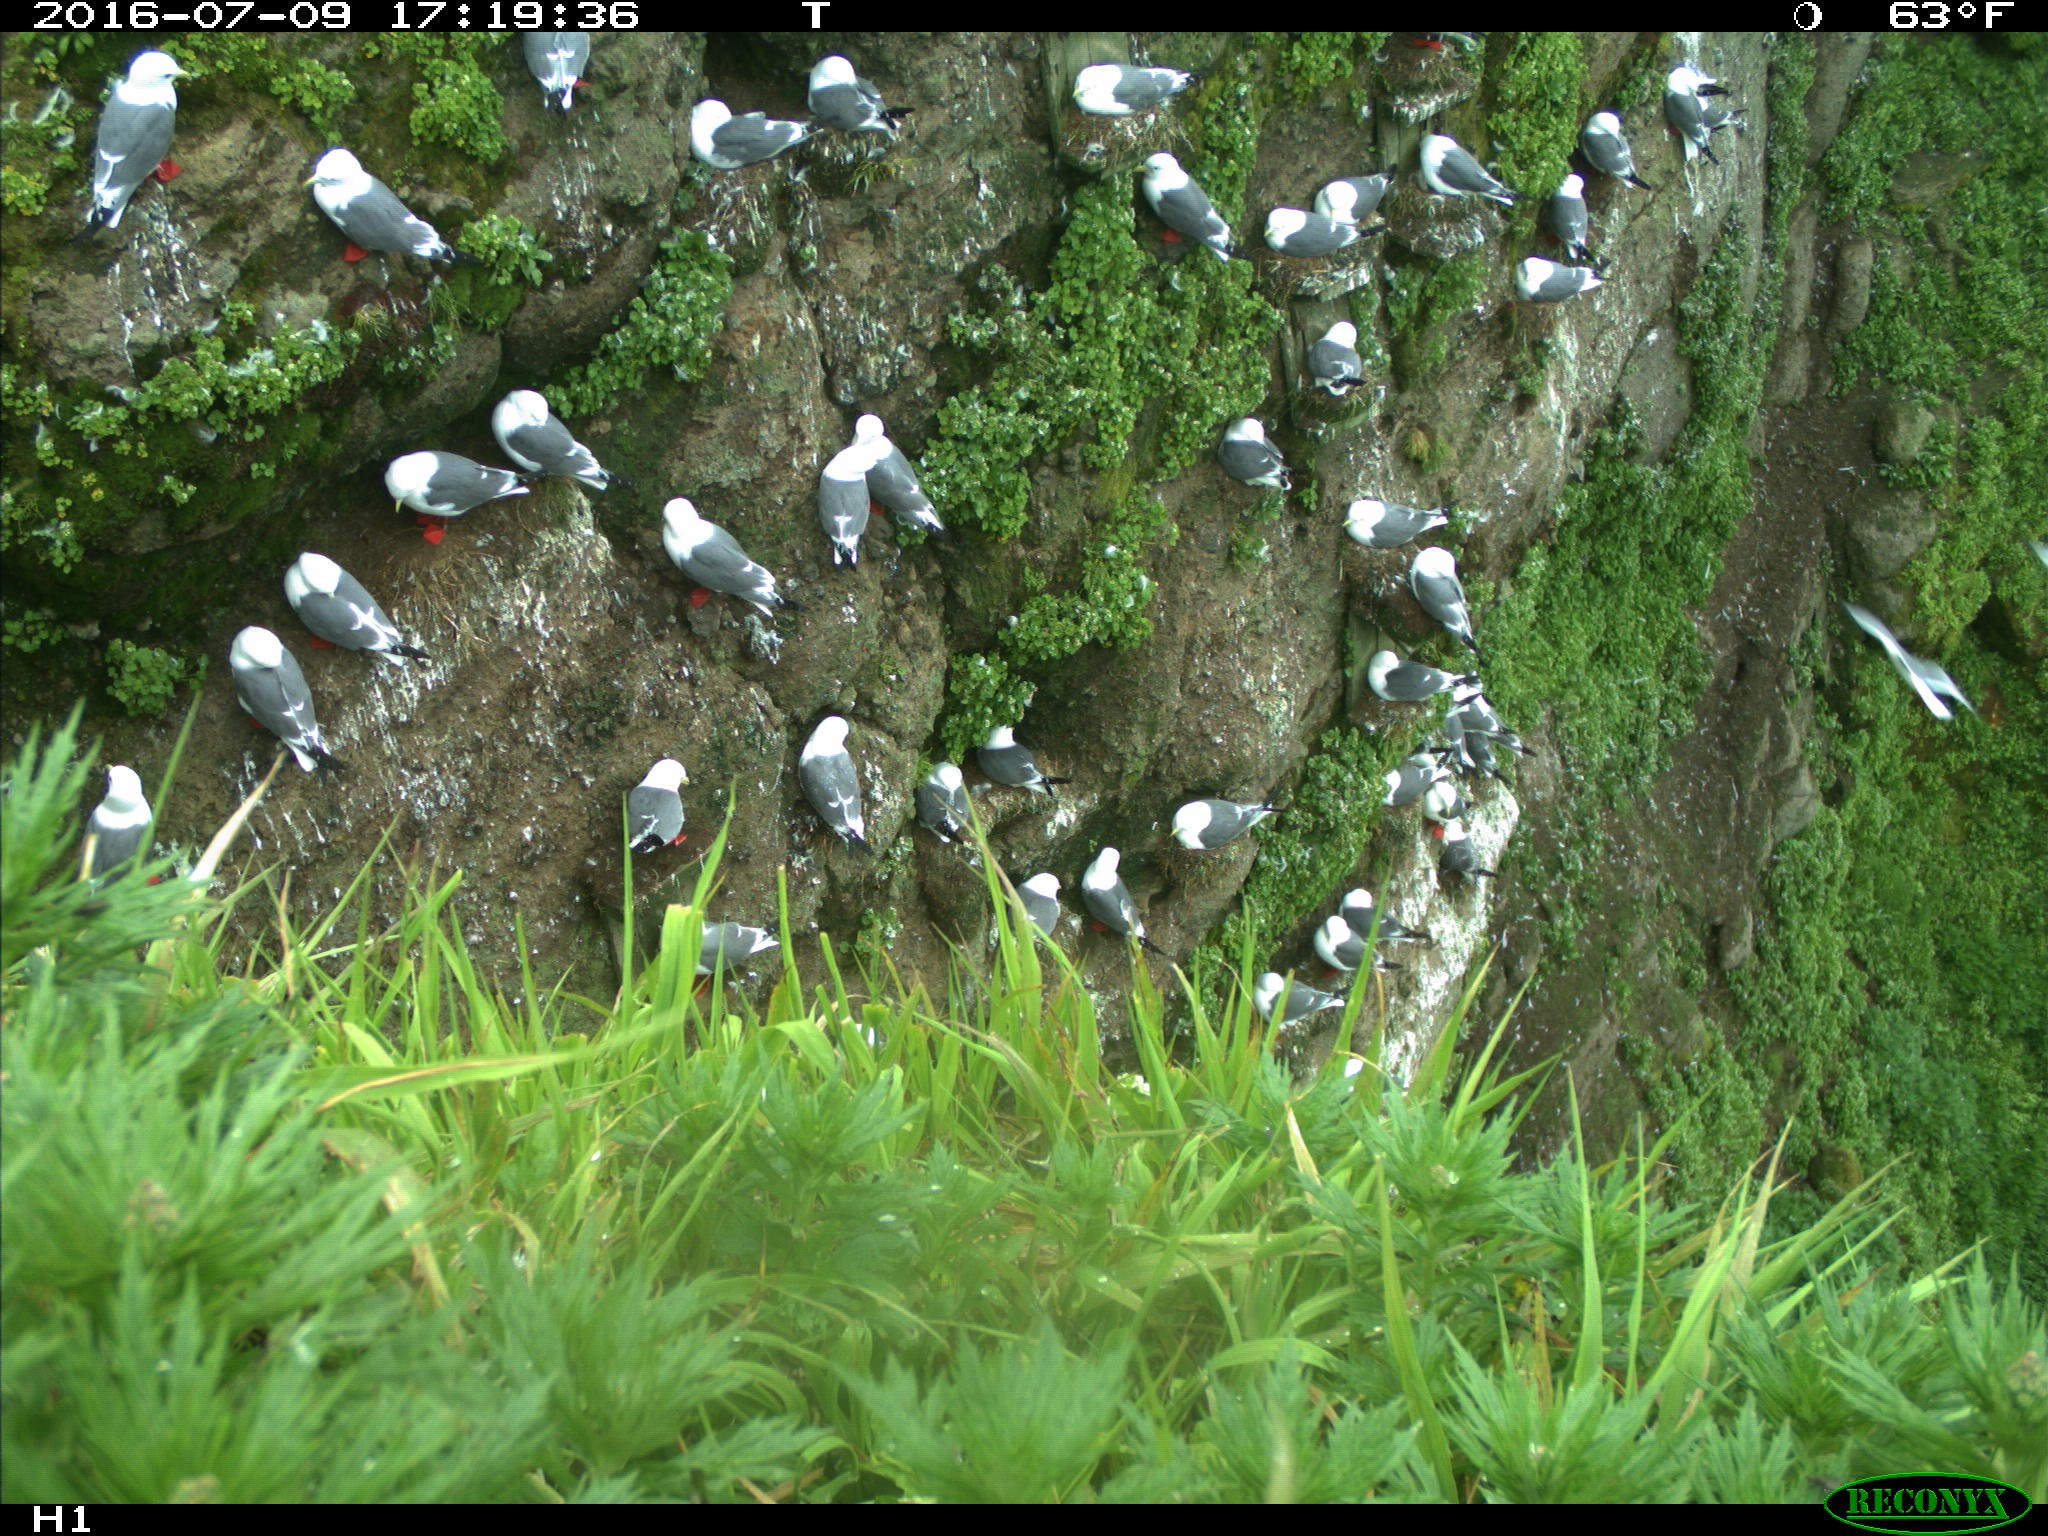Kittiwake: (248, 524, 455, 687), (353, 408, 543, 576), (210, 613, 373, 783), (74, 45, 214, 236), (655, 473, 830, 613), (601, 726, 776, 866), (290, 140, 453, 290), (758, 695, 895, 865), (679, 77, 874, 186), (845, 382, 968, 553), (1250, 307, 1400, 445), (1118, 140, 1266, 269), (1059, 24, 1226, 131), (490, 357, 618, 492), (905, 733, 1008, 895), (69, 742, 187, 879), (1384, 529, 1550, 626), (1137, 787, 1300, 879), (1193, 387, 1313, 508), (795, 48, 922, 161), (1061, 866, 1153, 1016), (1242, 947, 1334, 1092), (1263, 169, 1371, 287), (968, 687, 1064, 818), (798, 428, 876, 587), (1395, 111, 1513, 216), (1646, 56, 1746, 179), (1351, 628, 1496, 712), (993, 826, 1071, 983), (1329, 858, 1438, 966), (1529, 157, 1634, 266), (1316, 137, 1405, 261), (513, 24, 610, 124), (1400, 784, 1500, 879), (1301, 908, 1392, 1012), (1334, 461, 1421, 565), (1505, 232, 1609, 316), (1559, 90, 1646, 173)
